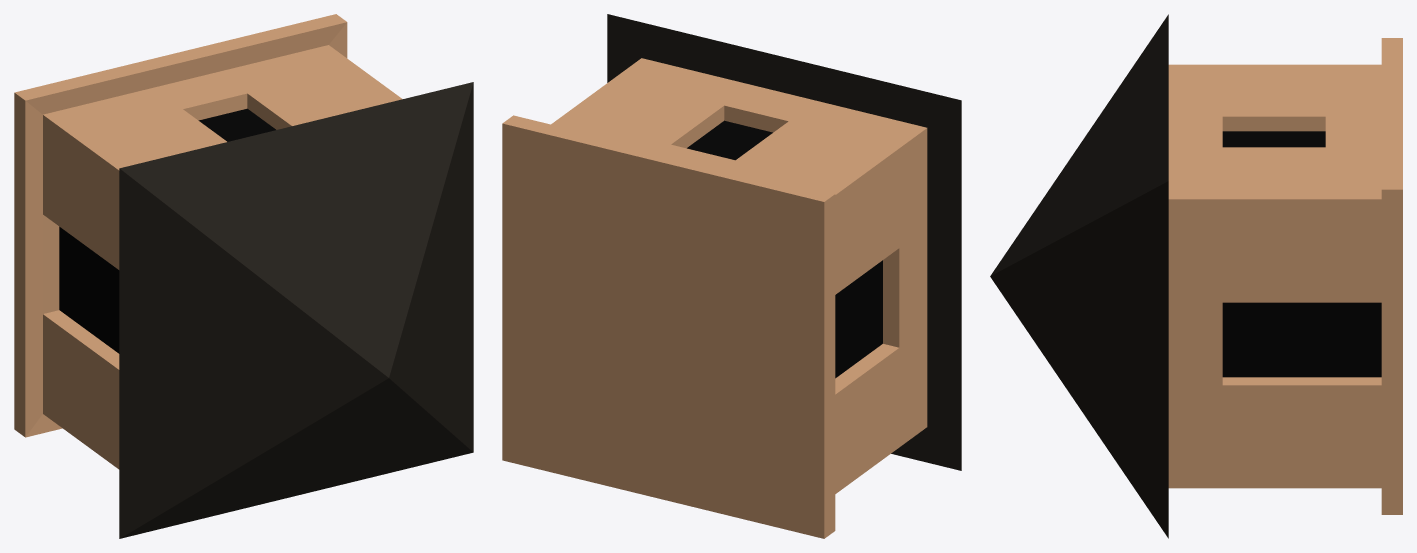
File: house_full.glb
The picture shows the model from 3 angles, left to right: view 1: azimuth 30°, elevation 25°; view 2: azimuth 150°, elevation 25°; view 3: azimuth 270°, elevation 25°; orthographic projection. The views are drawn at different scales.
Visible parts, largest first — view 1: Cube, HouseBase; view 2: HouseBase, Cube; view 3: HouseBase, Cube.
Part boxes in pixels (x1,y1,x2,y2): Cube: (119, 82, 473, 538); HouseBase: (14, 14, 402, 469); HouseBase: (502, 58, 927, 538); Cube: (607, 14, 961, 470); HouseBase: (1168, 38, 1402, 514); Cube: (990, 14, 1168, 538).
Bounding box in the file's own units: 1.64 × 1.64 × 1.72.
